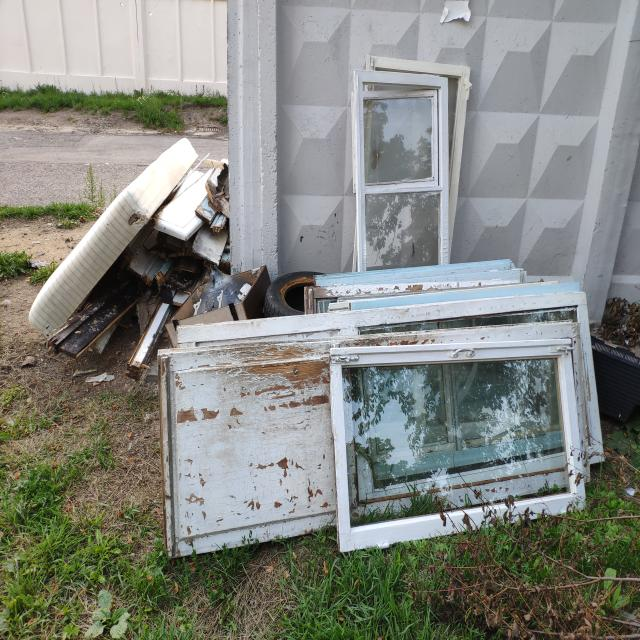entulho: (177, 279, 609, 492), (157, 323, 334, 570), (29, 139, 205, 344), (347, 66, 458, 282), (298, 252, 535, 321), (165, 264, 262, 355), (164, 150, 212, 205)
